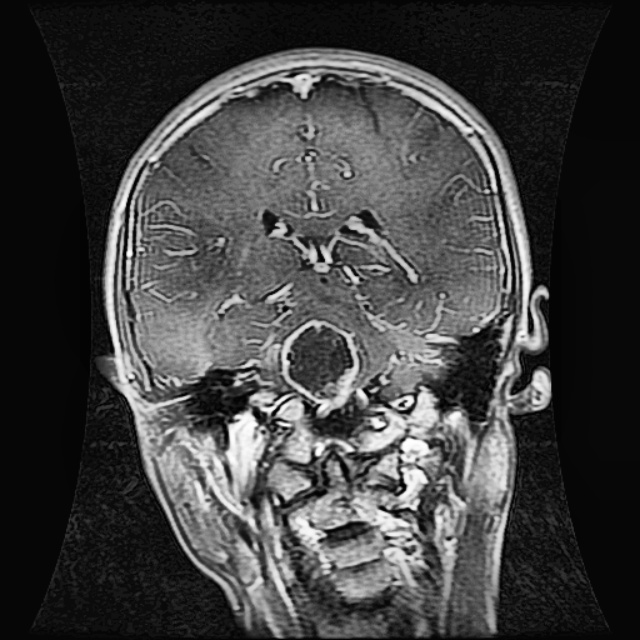Meningioma: (279, 318, 358, 414)
